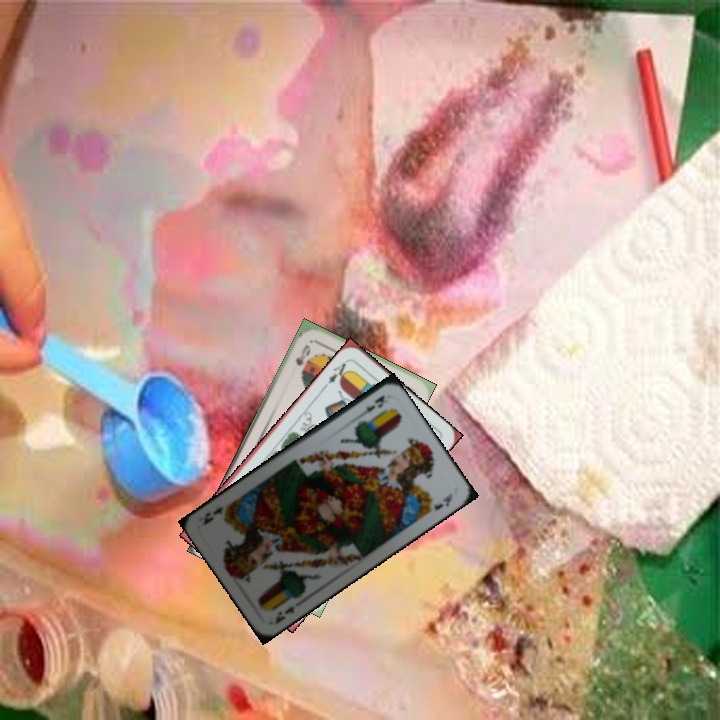EA: (324, 356, 352, 386)
EK: (354, 391, 391, 420), (270, 602, 298, 627)
SO: (291, 341, 313, 368)
